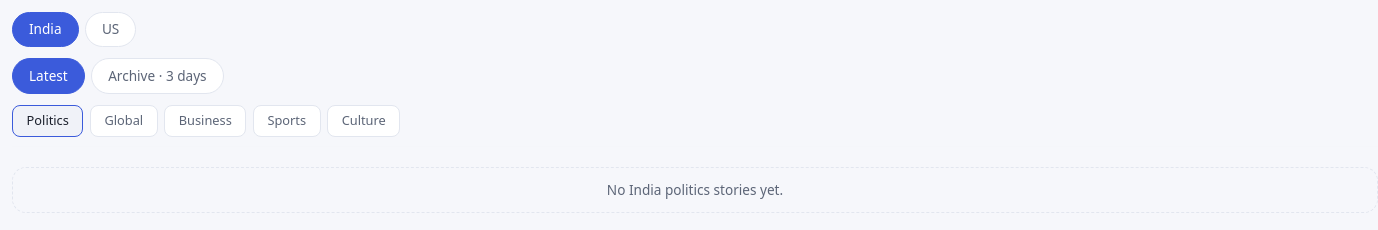
Test: StoriesFeed — country toggle › shows the empty state scoped to the selected country and category
Click the tab "Sports" at [287, 121], box [253,105,321,137]
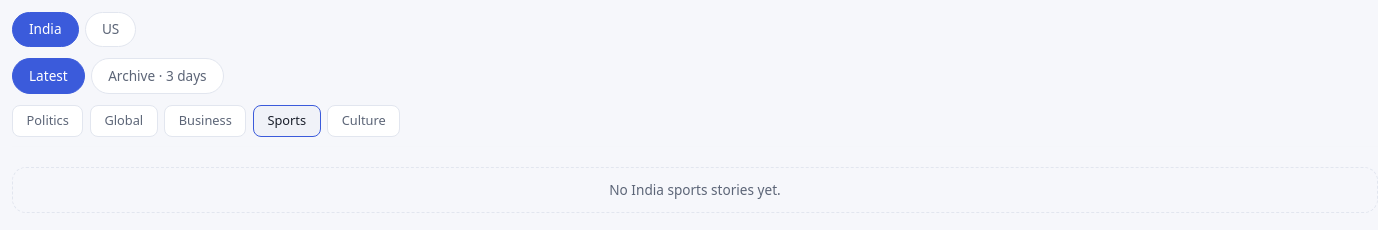
Expected: the text "No India sports stories yet." is shown, [12,167,1377,213]
Click the tab "US" at [111, 30], box [85,12,136,47]
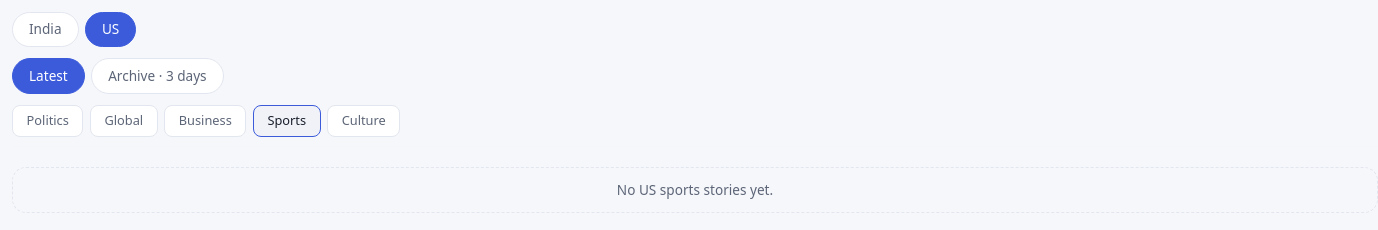
Expected: the text "No US sports stories yet." is shown, [12,167,1377,213]
